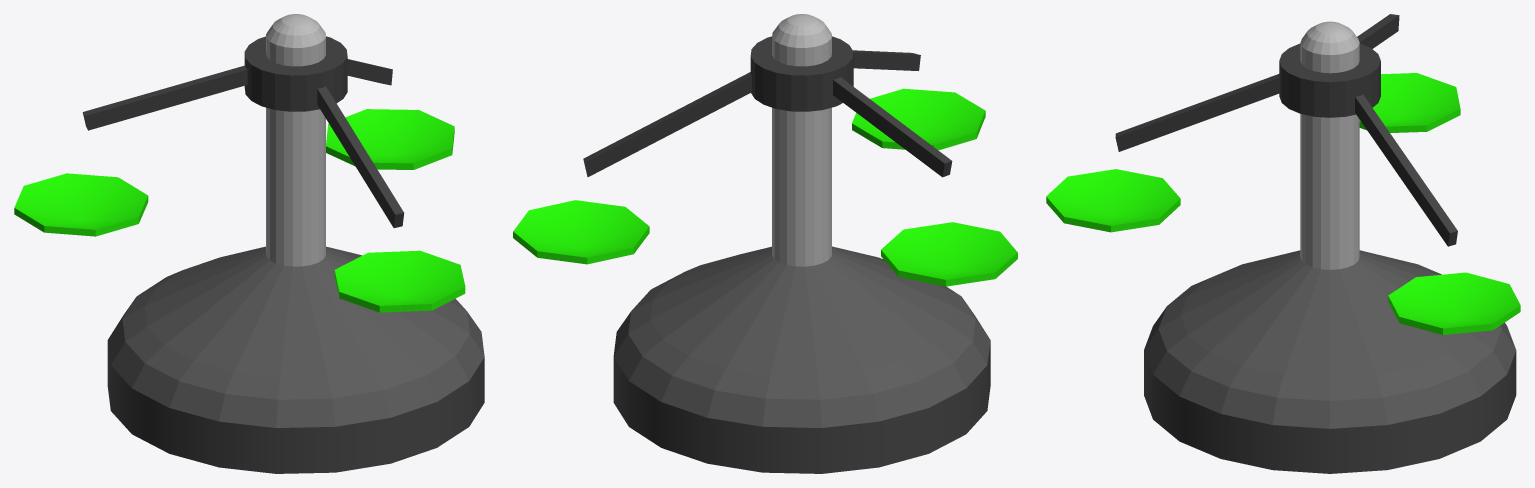
File: Barther.fbx
3 views of the same model, side by side, from view 1: azimuth 30°, elevation 25°; view 2: azimuth 150°, elevation 25°; view 3: azimuth 270°, elevation 25° (orthographic).
Visible parts, largest first — view 1: pCylinder6; view 2: pCylinder6; view 3: pCylinder6.
Part boxes in pixels (x1,y1,x2,y2): pCylinder6: (14, 14, 484, 473); pCylinder6: (513, 14, 1017, 473); pCylinder6: (1046, 14, 1520, 473).
Bounding box in the file's own units: 7.64 × 6.1 × 7.05.
